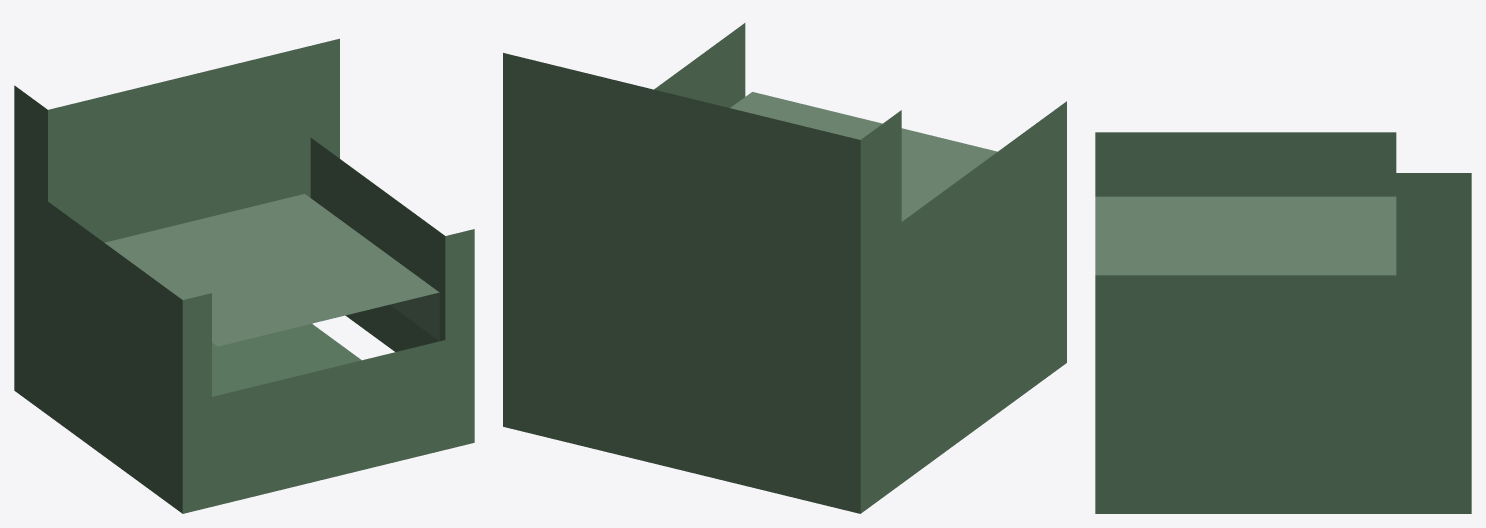
The model's file is Sofa-green.glb.
The picture shows the model from 3 angles, left to right: view 1: azimuth 30°, elevation 25°; view 2: azimuth 150°, elevation 25°; view 3: azimuth 270°, elevation 25°; orthographic projection. The views are drawn at different scales.
Visible parts, largest first — view 1: Sofa; view 2: Sofa; view 3: Sofa.
Boxes of the visible parts, box(x1,y1,x2,y2) form: Sofa: box(14, 38, 474, 513); Sofa: box(503, 23, 1066, 513); Sofa: box(1095, 132, 1471, 513).
Size of the model in its own units: 1 by 1 by 1.
